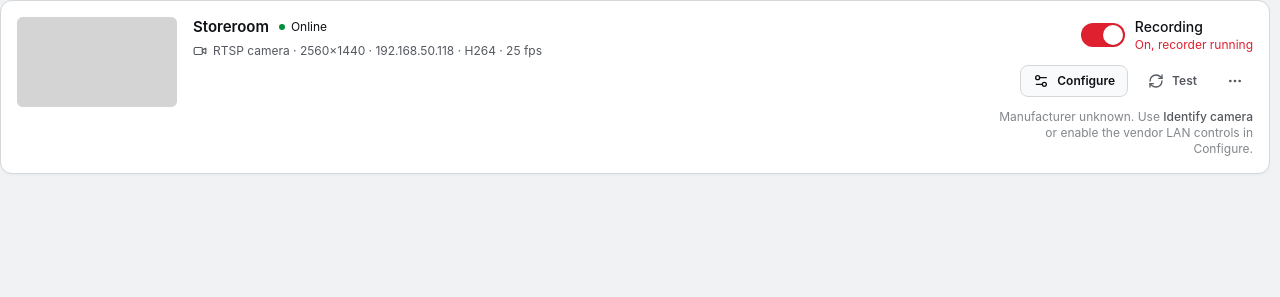
brand-specific actions › tells the operator how to resolve an unidentified camera
This screenshot has width=1280, height=297.
Expected: the text "Manufacturer unknown" is shown, [999,109,1160,124]
Click the button named "More actions for Storeroom".
click(1235, 81)  # box [1217,63,1253,99]
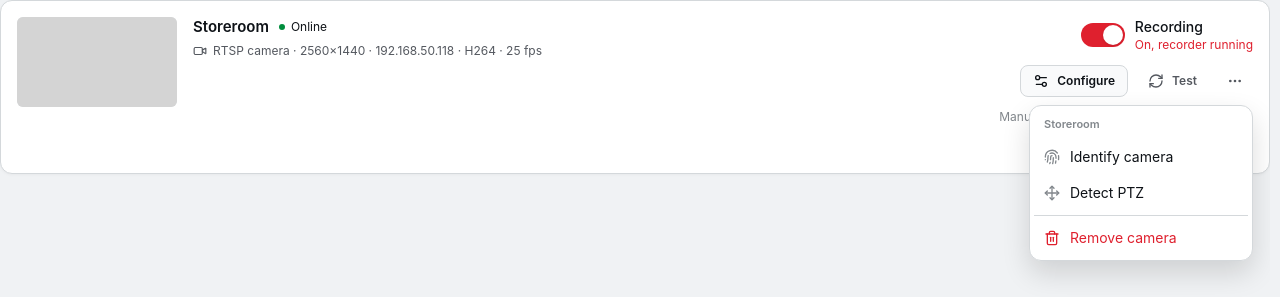
Result: the menu item "Identify camera" is shown at [1044,148,1173,164]
